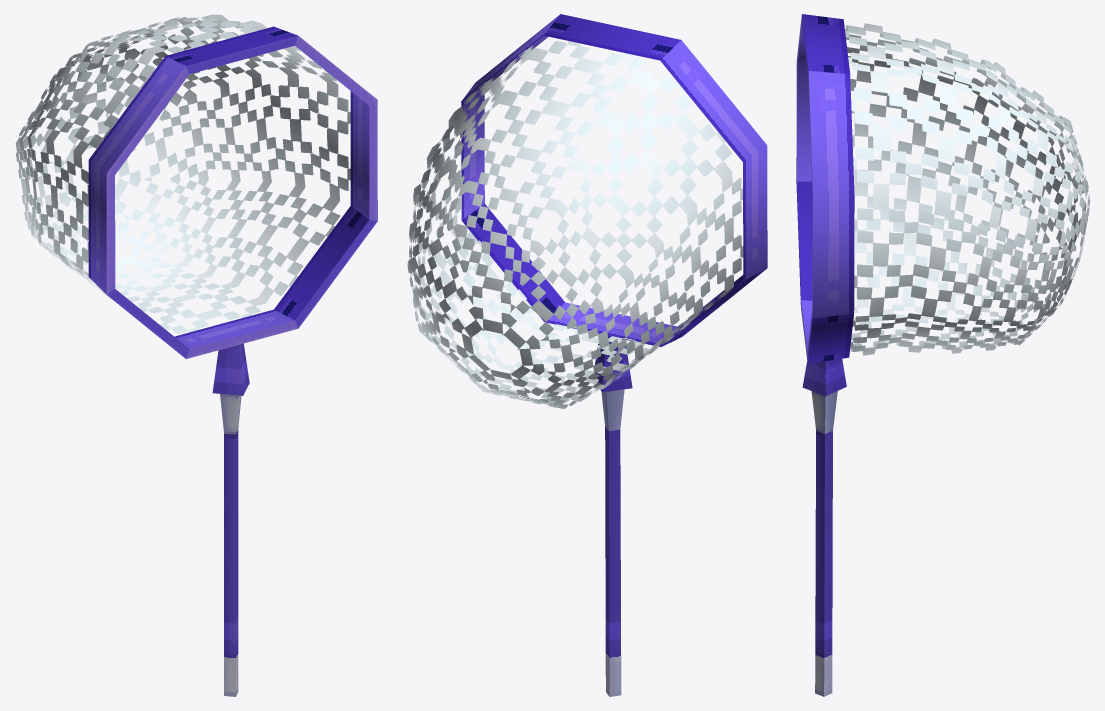
Rendered from Time Net.obj.
3 renders of one model, left to right at view 1: azimuth 30°, elevation 25°; view 2: azimuth 150°, elevation 25°; view 3: azimuth 270°, elevation 25°, orthographic.
Visible parts, largest first — view 1: _Time_Net; view 2: _Time_Net; view 3: _Time_Net.
Boxes of the visible parts, x1=… form: _Time_Net: x1=15, y1=14, x2=377, y2=696; _Time_Net: x1=407, y1=14, x2=767, y2=696; _Time_Net: x1=796, y1=14, x2=1090, y2=696.
Size of the model in its own units: 7.09 by 15.74 by 6.44.
1 material, 1 textured.
